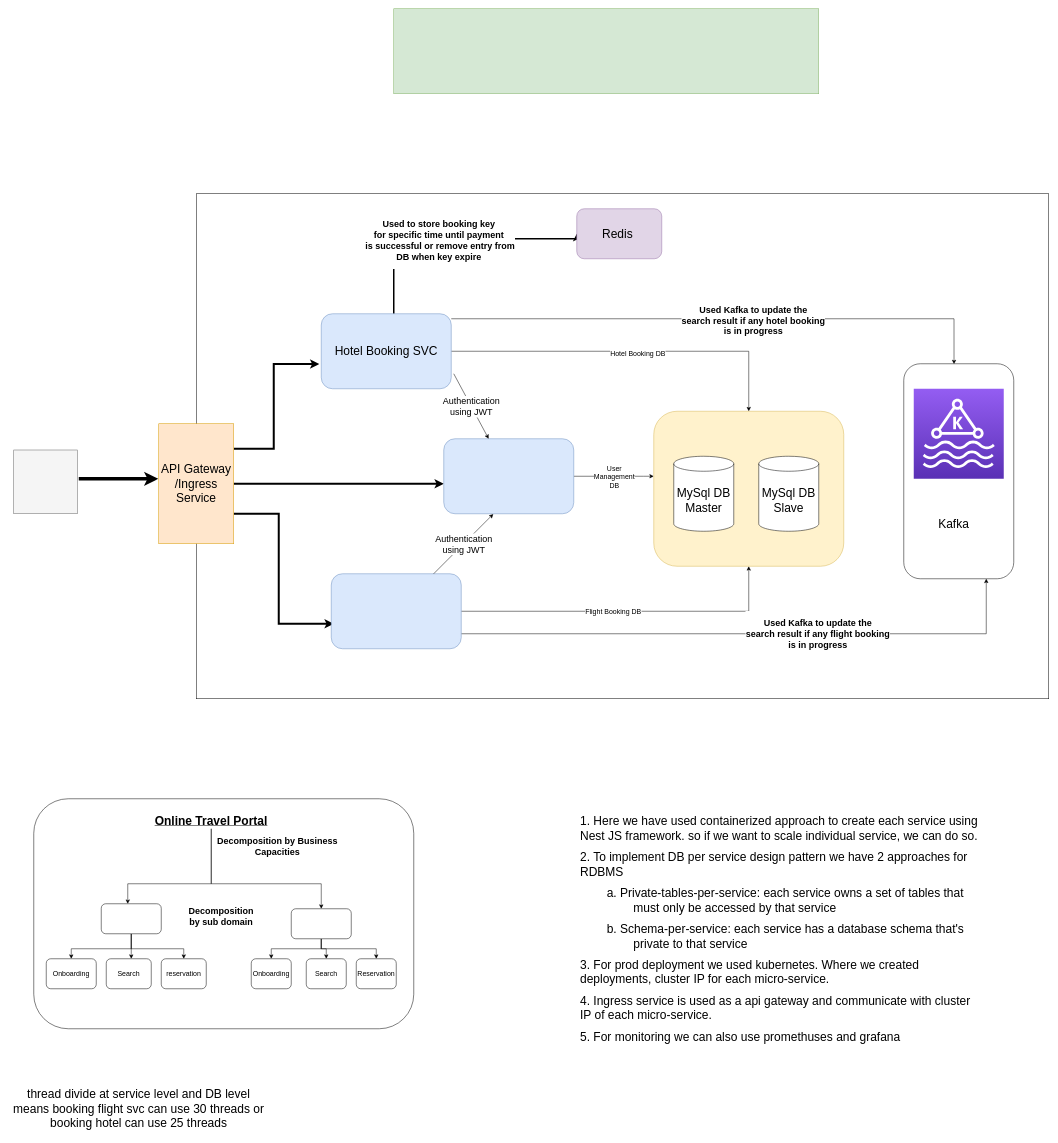
Image size: 1058x1143. Some labels were removed from this diagram. The centre of each missing label's shape, as x and y in pixels:
"Flight Booking" belongs at point (131, 918).
"Flight Booking SVC" belongs at point (396, 611).
"Hotel Booking" belongs at point (321, 923).
"Online Travel Portal Architecture" belongs at point (606, 51).
"Traffic" belongs at point (45, 482).
"User Management SVC" belongs at point (508, 476).
